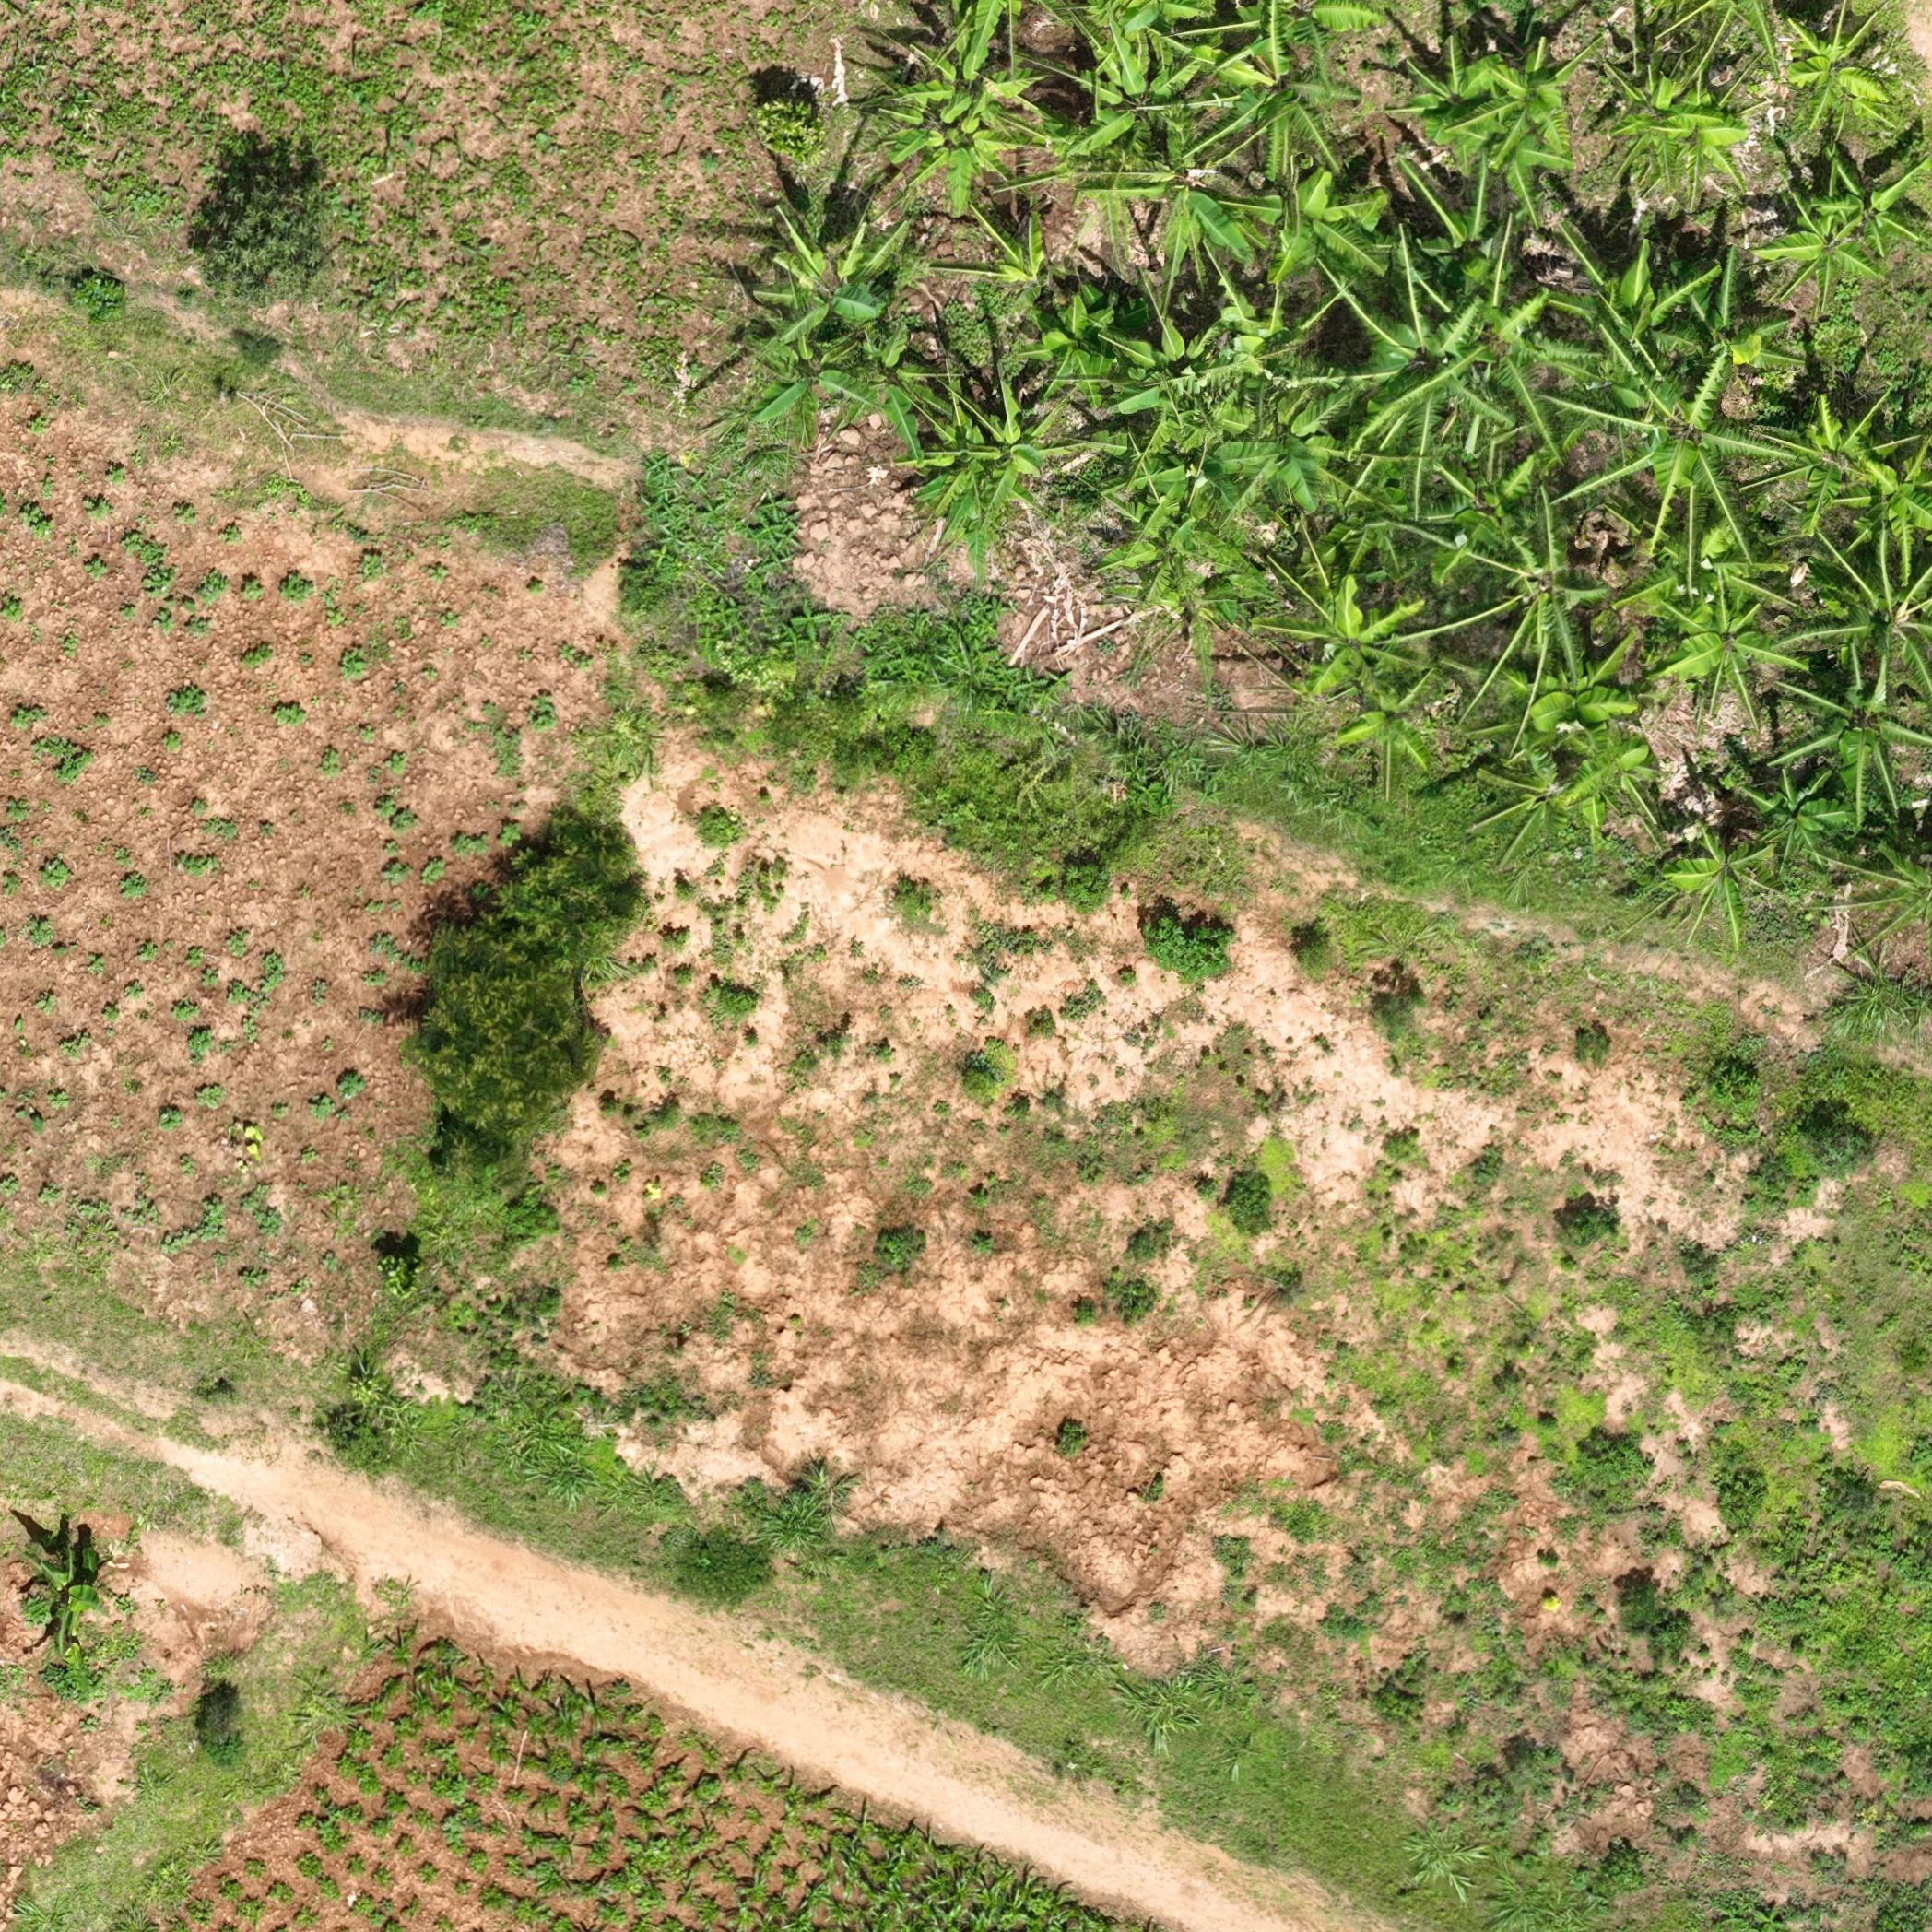Banana: (1594, 364, 1775, 561), (1226, 7, 1366, 257), (1072, 12, 1207, 244), (1113, 478, 1281, 644), (1376, 281, 1502, 490), (1428, 522, 1603, 671), (1424, 50, 1585, 209), (1134, 295, 1267, 478), (786, 223, 925, 387), (918, 25, 1030, 211), (1812, 5, 1923, 184), (1507, 265, 1576, 554), (1635, 42, 1746, 202), (1035, 281, 1132, 464), (1274, 409, 1375, 582), (932, 379, 1035, 540), (1805, 674, 1902, 816), (1283, 577, 1401, 690), (1819, 563, 1930, 679), (1780, 188, 1875, 308), (1675, 587, 1773, 702), (1760, 421, 1865, 524), (1656, 826, 1748, 927), (1858, 835, 1930, 950), (1352, 702, 1428, 796), (1493, 780, 1571, 869), (1571, 743, 1649, 830), (1865, 458, 1928, 556), (1541, 685, 1637, 741), (1760, 805, 1831, 858)
